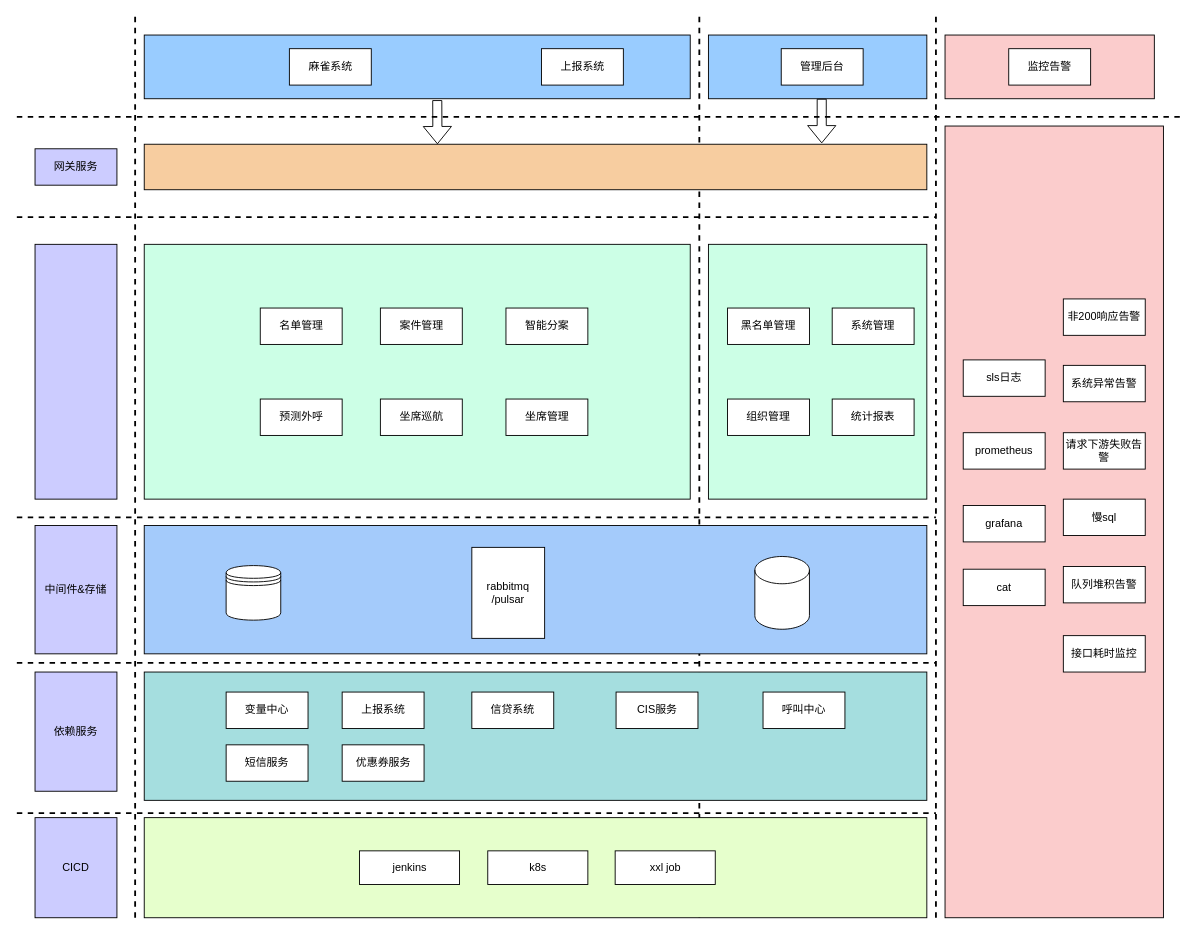
The diagram is 1198 pixels wide and 935 high, and some of its shapes have lost their labels. Here are the shapes that lost their labels. From the top down, the centre of each, then its label:
At point 535,166: "SLB/Ingress".
At point 75,371: "电销服务".
At point 253,592: "redis".
At point 781,592: "mysql".
